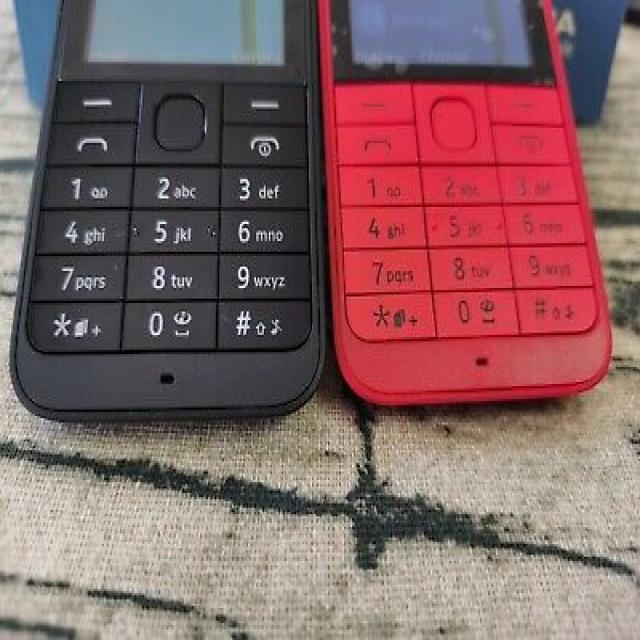mobile phone: (8, 0, 325, 422), (315, 0, 612, 407)
